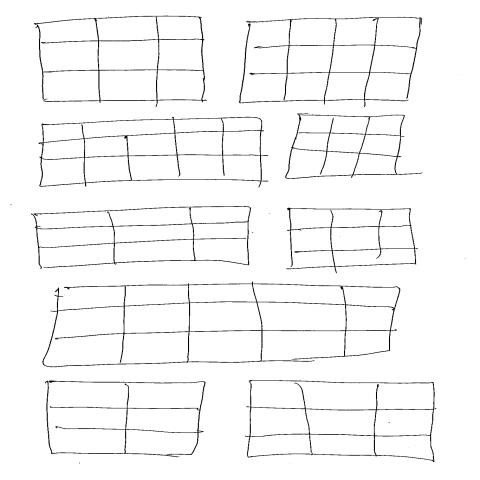Table: (42, 283, 402, 369), (239, 17, 424, 105), (38, 117, 264, 188), (246, 380, 437, 464), (34, 15, 208, 104), (31, 206, 252, 270), (45, 380, 208, 457), (287, 207, 418, 271), (285, 113, 407, 180)
